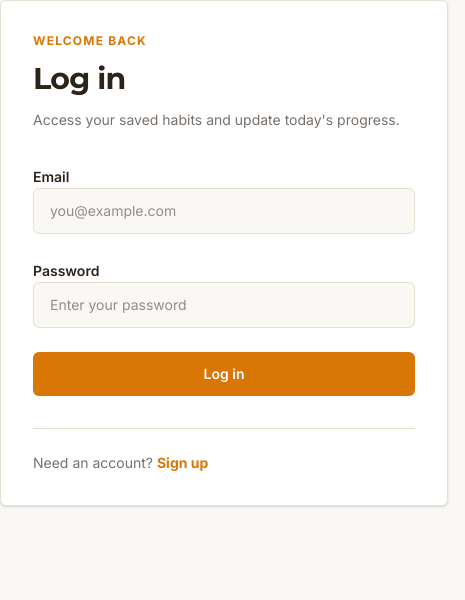
it: auth flow › shows an error for invalid login credentials
This screenshot has width=465, height=600.
Type "user@example.com" into the field with test id "auth-login-email" at {"x": 224, "y": 211}, box [33,188,415,234]
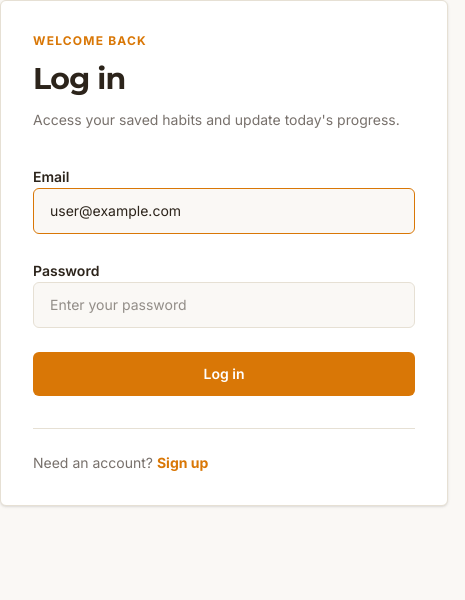
Type "wrong-password" into the password field with test id "auth-login-password" at {"x": 224, "y": 305}, box [33,282,415,328]
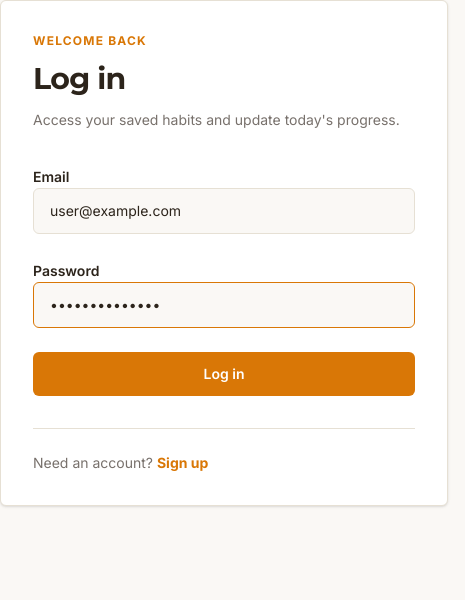
Click the button with test id "auth-login-submit" at {"x": 224, "y": 374}, box [33,352,415,396]
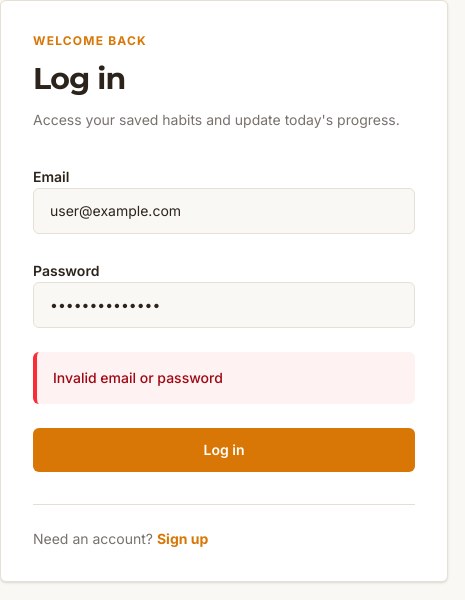
Result: the message reads "Invalid email or password" at [53,369,223,386]
